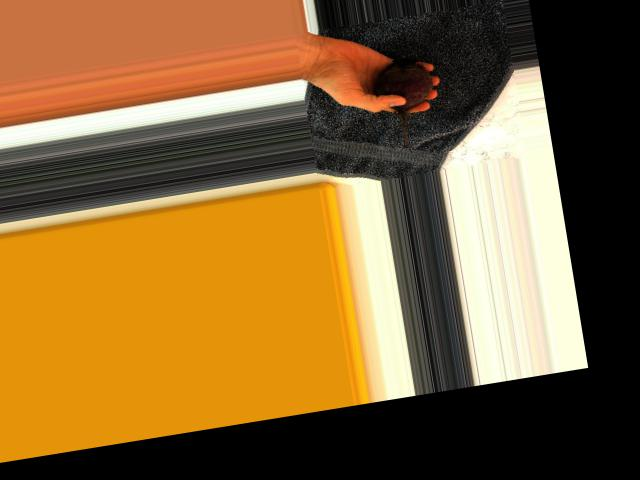beet: (371, 53, 444, 156)
